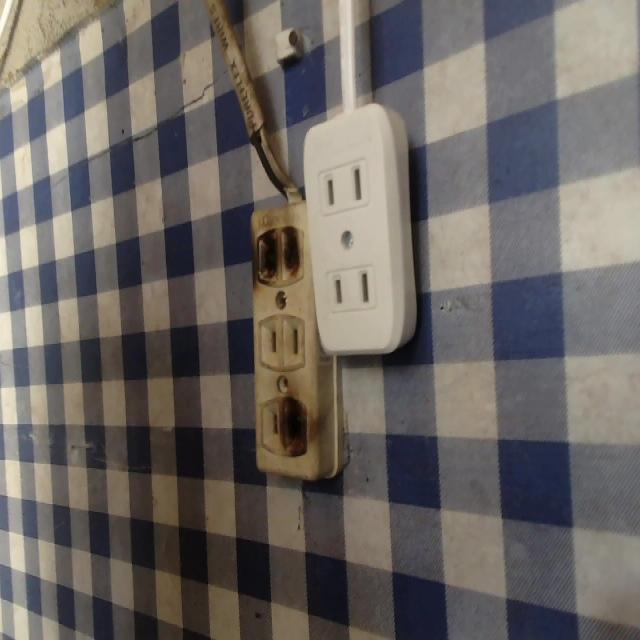-: (251, 223, 310, 284), (280, 398, 312, 462)
